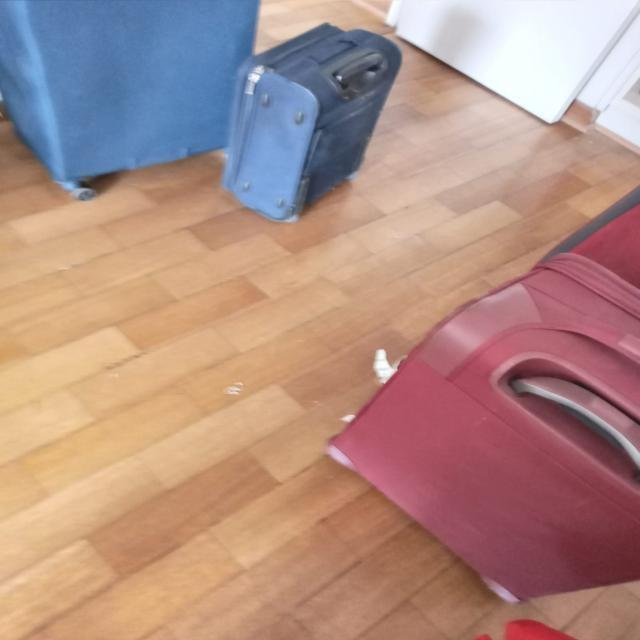Suitcase: (323, 249, 640, 606), (0, 0, 261, 202), (223, 22, 403, 227)
